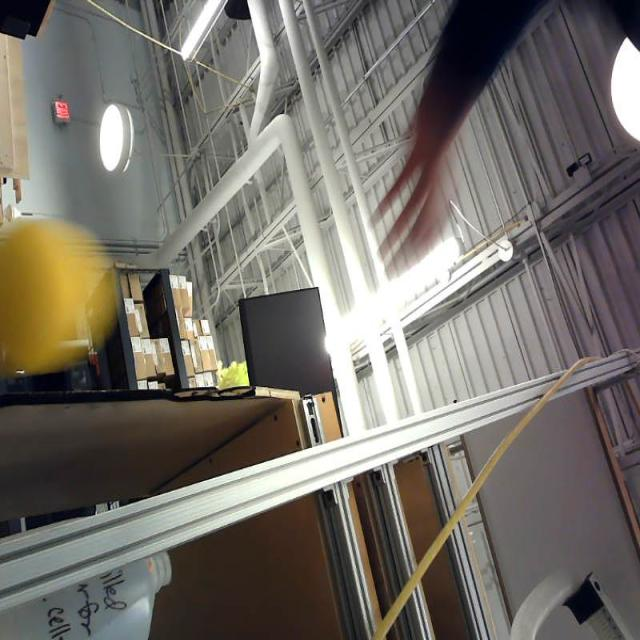Fuel: (0, 220, 85, 369)
